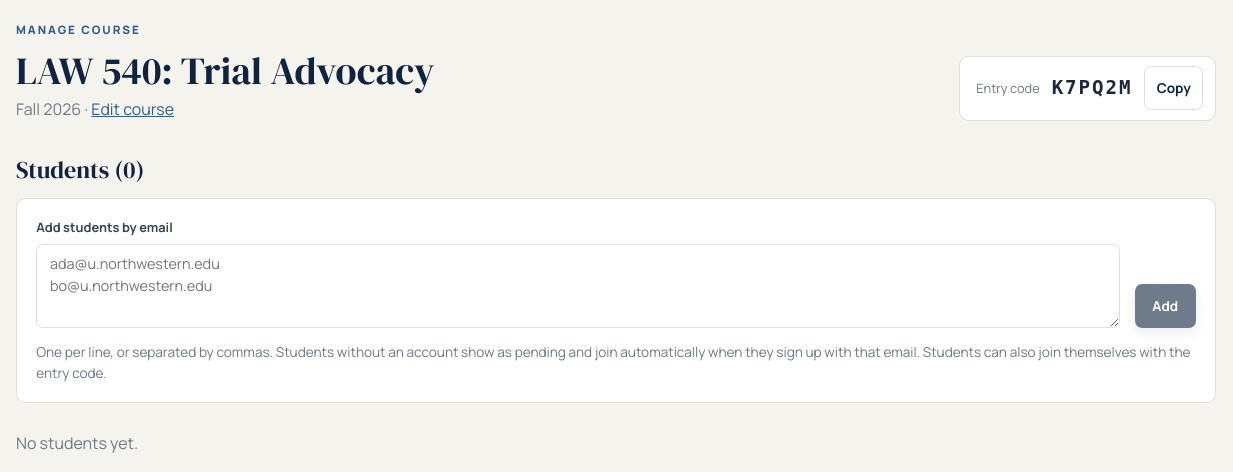
Test case: editing and deleting › edits the course details, starting from the current values
This screenshot has width=1233, height=472.
Click the button "Edit course" at [133, 109], box [91, 97, 174, 121]
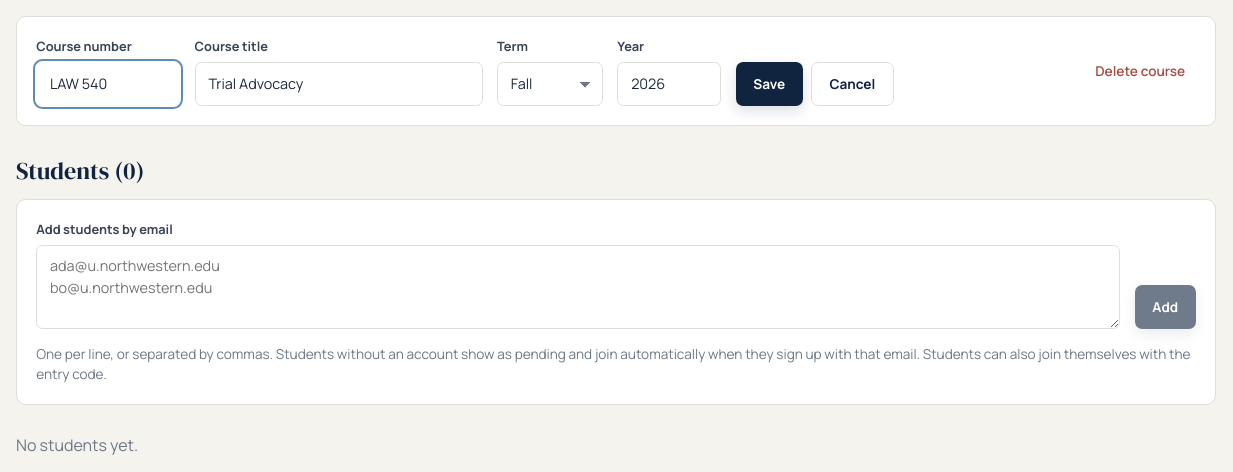
Expected: the field labelled "Course number" holds "LAW 540"
Expected: the field labelled "Course title" holds "Trial Advocacy", [195, 62, 483, 106]
Expected: the dropdown labelled "Term" shows "Fall", [497, 62, 603, 106]
Type "LAW 541" into the field labelled "Course number" at [108, 84], box [36, 62, 180, 106]
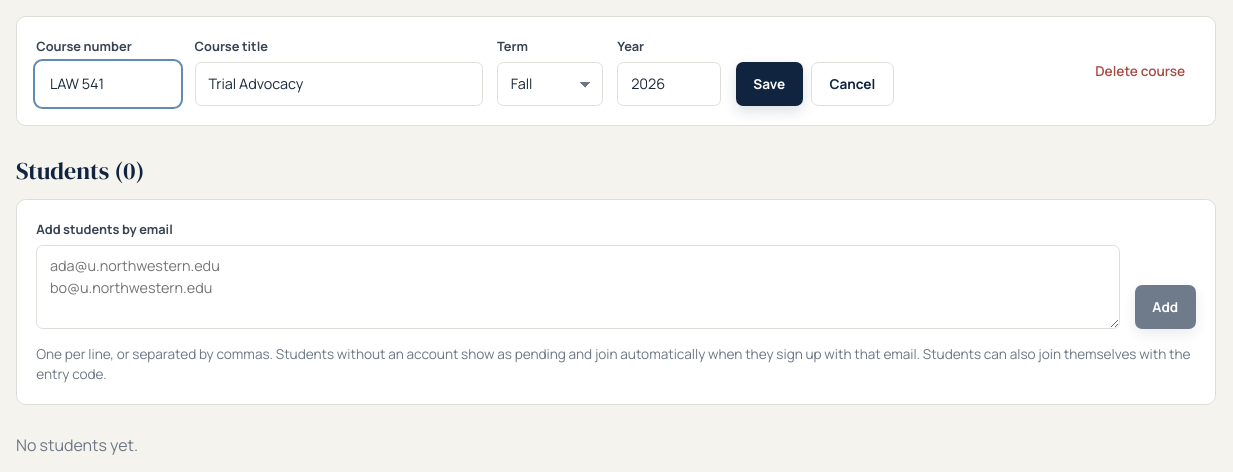
Type "Advanced Trial Advocacy" into the field labelled "Course title" at [339, 84], box [195, 62, 483, 106]
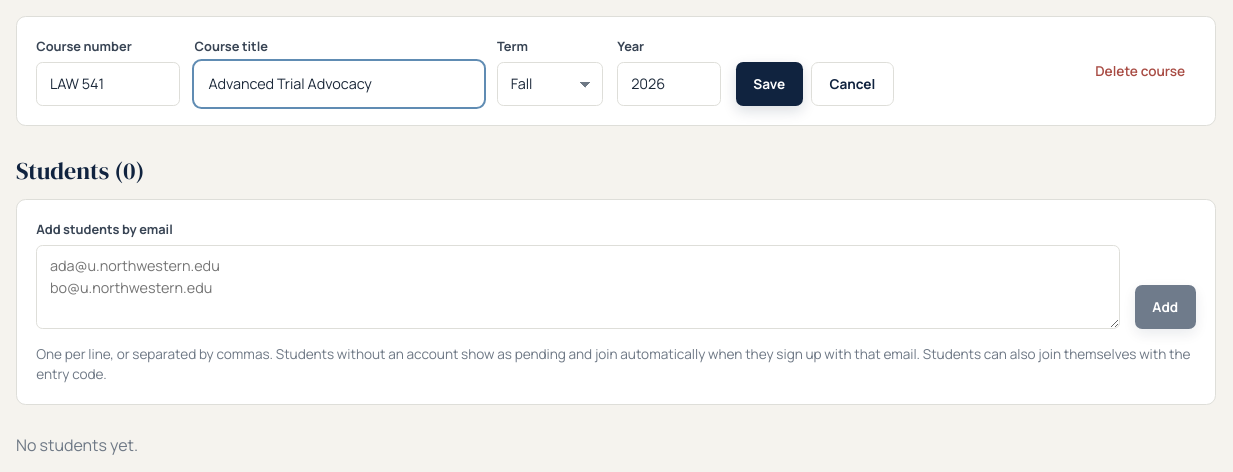
Select "Winter" in the dropdown labelled "Term" at [550, 84], box [497, 62, 603, 106]
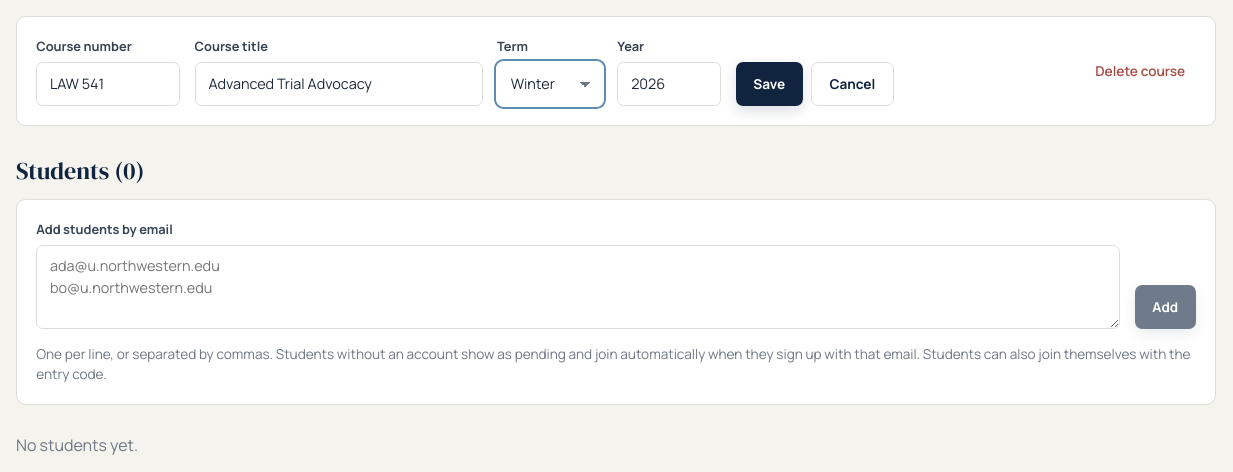
Replace the text in the number field labelled "Year" with "2027" at [669, 84], box [617, 62, 721, 106]
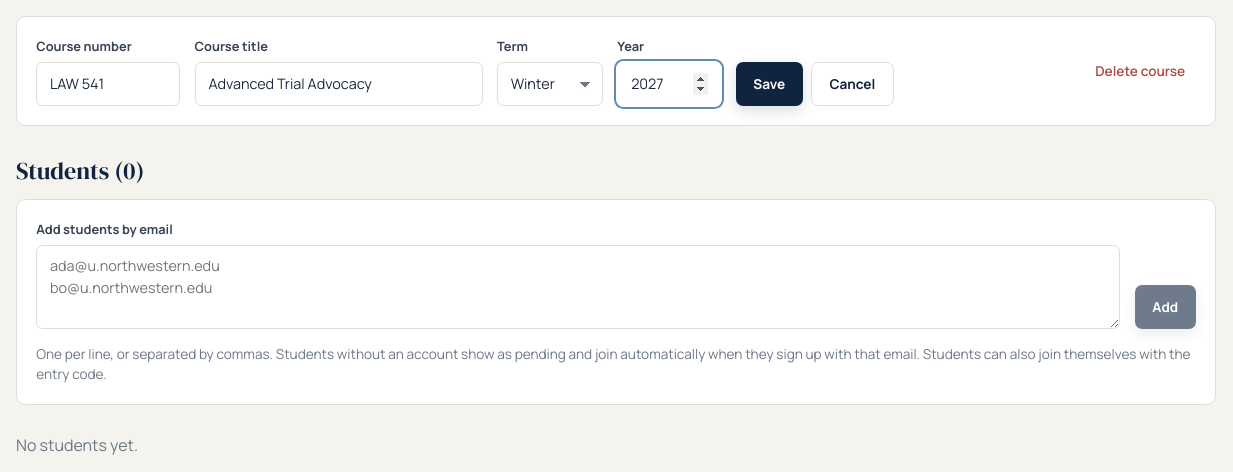
Click the button "Save" at [769, 84], box [736, 62, 803, 106]
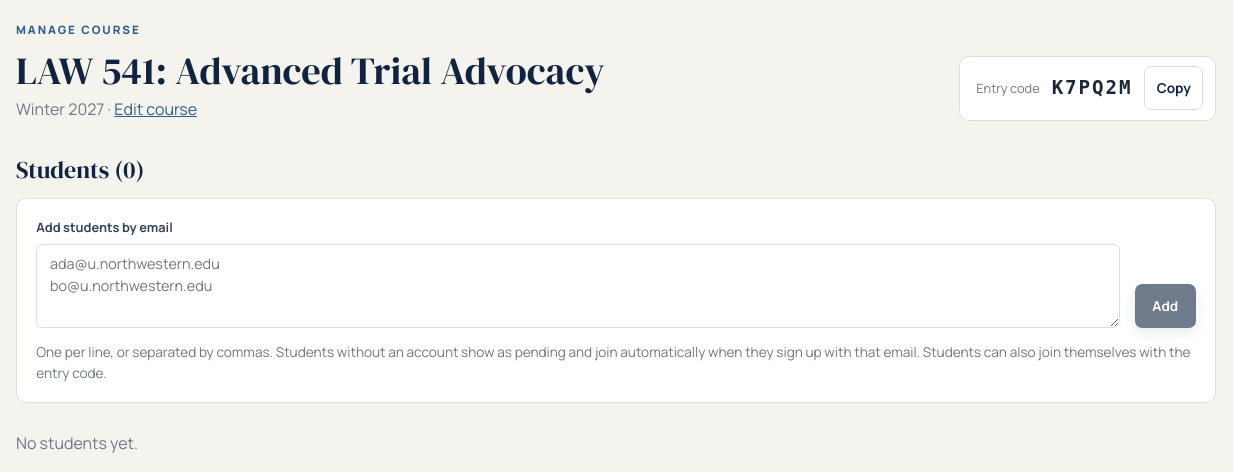
Expected: the heading "LAW 541: Advanced Trial Advocacy" is shown, [16, 48, 605, 94]
Expected: the text "Winter 2027 · Edit course" is shown, [16, 97, 197, 121]
